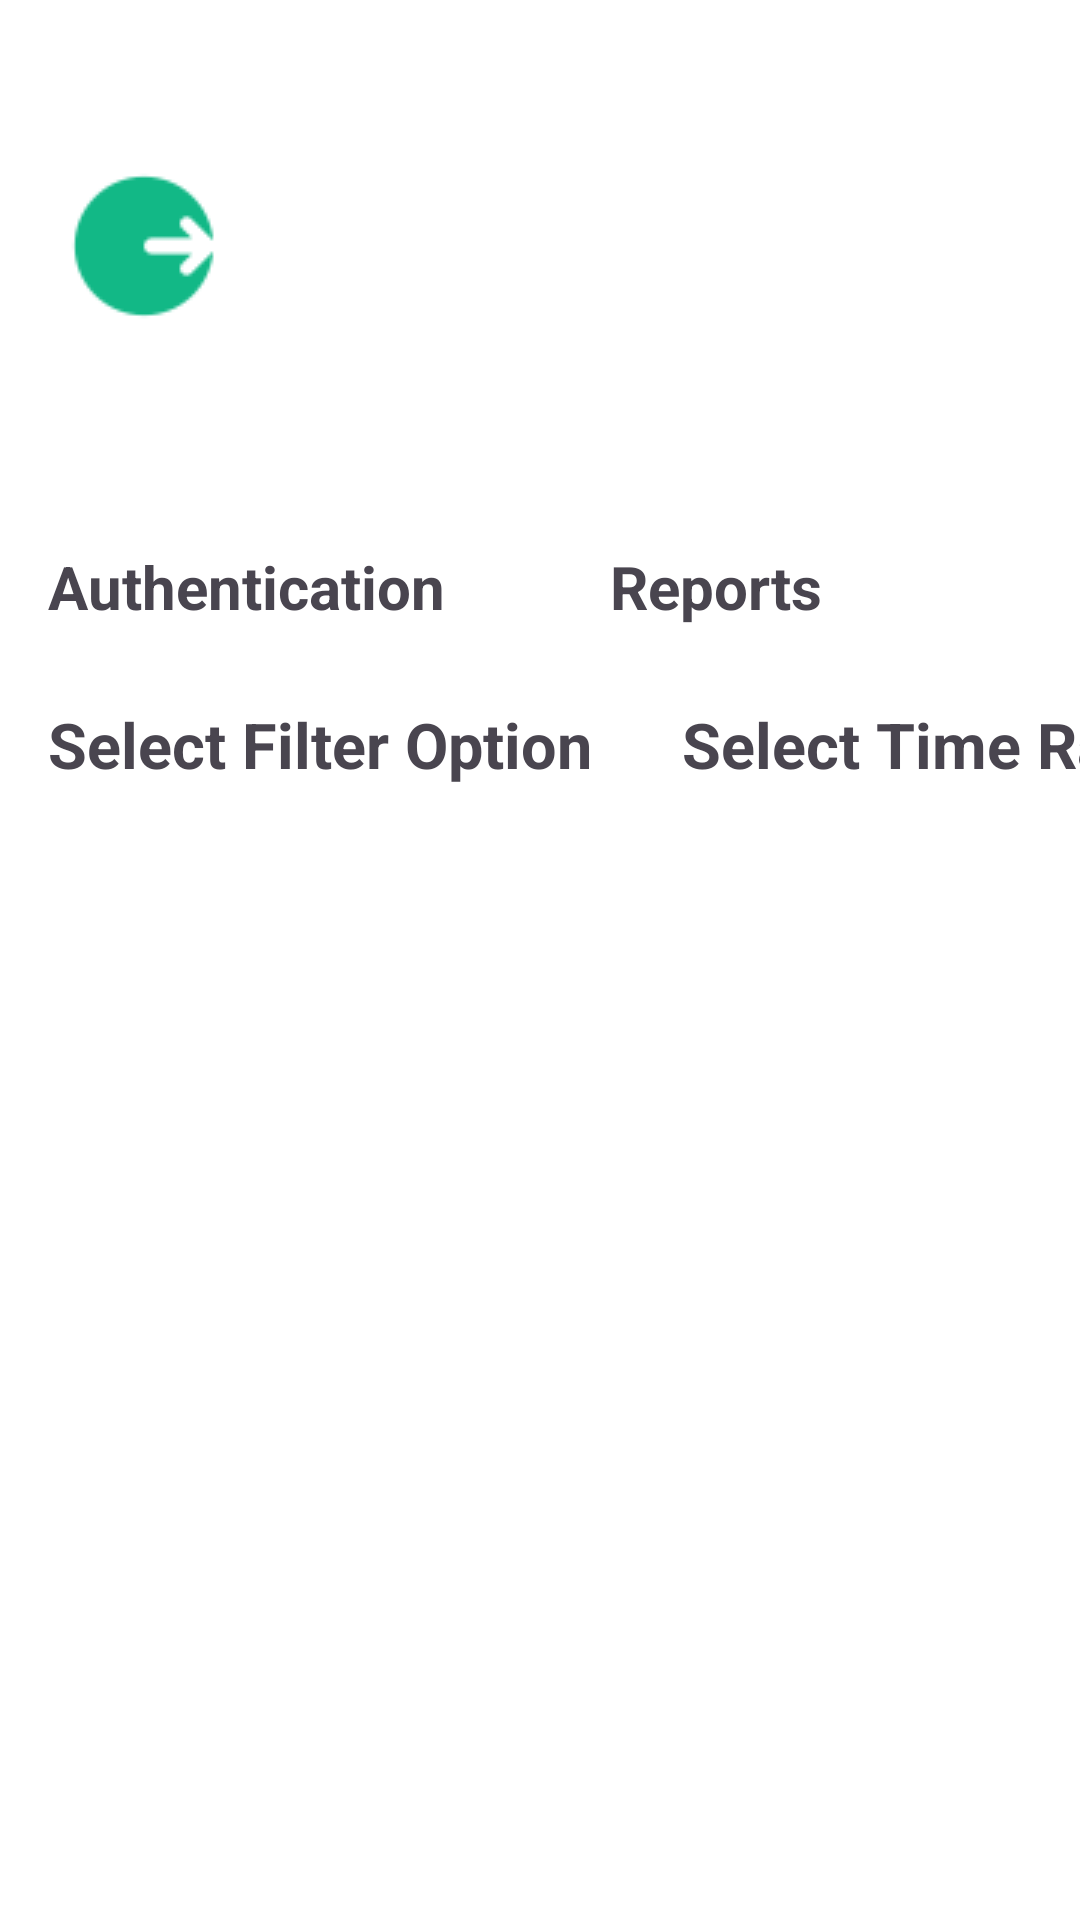

Screen size 1080 × 1920. Icon name, then its box in pixels as (x1, y1, x2, y2):
signout: (74, 176, 214, 316)
